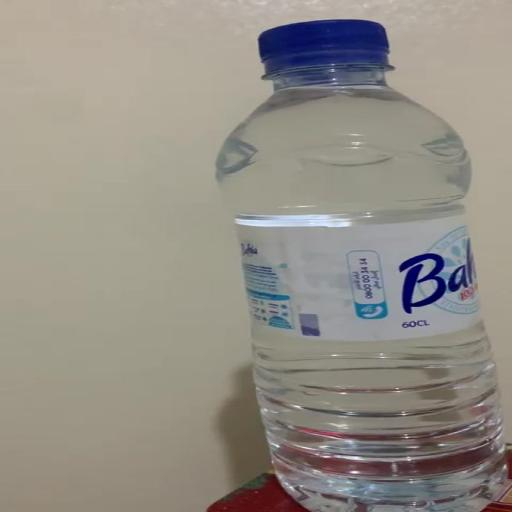bouteille conformite: (219, 20, 505, 511)
